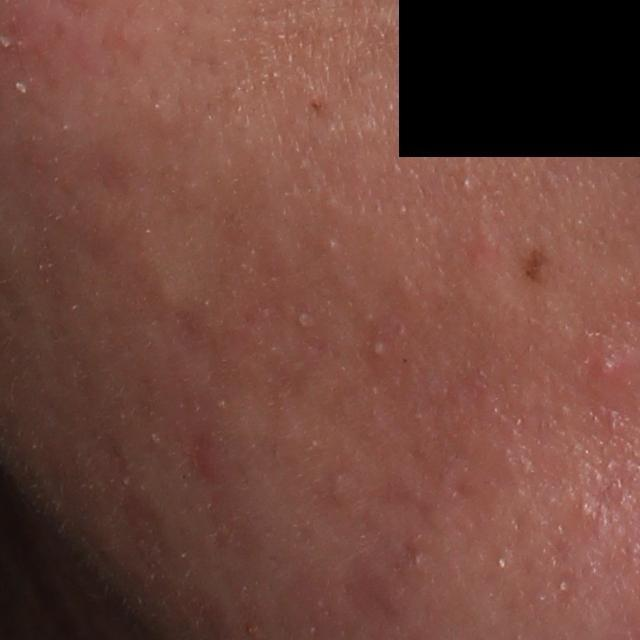comedo: (458, 175, 474, 196)
nevus: (518, 239, 550, 281)
